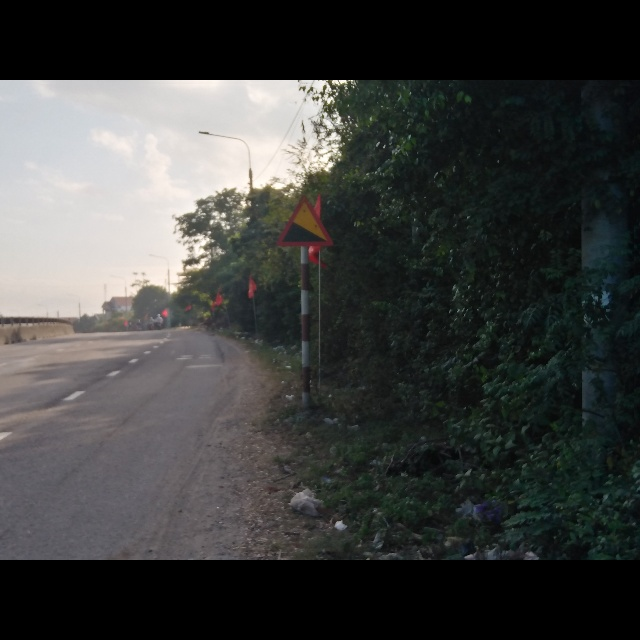Dốc lên nguy hiểm: (276, 192, 334, 247)
